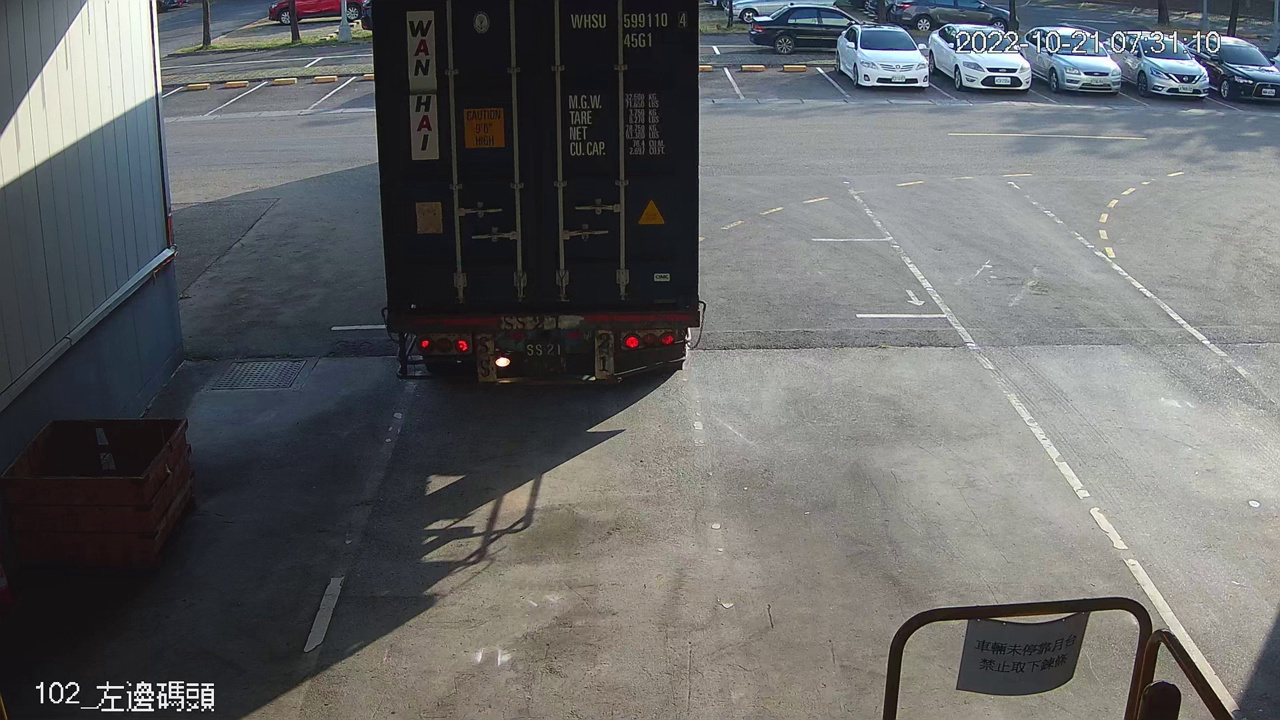container: (562, 4, 690, 53)
